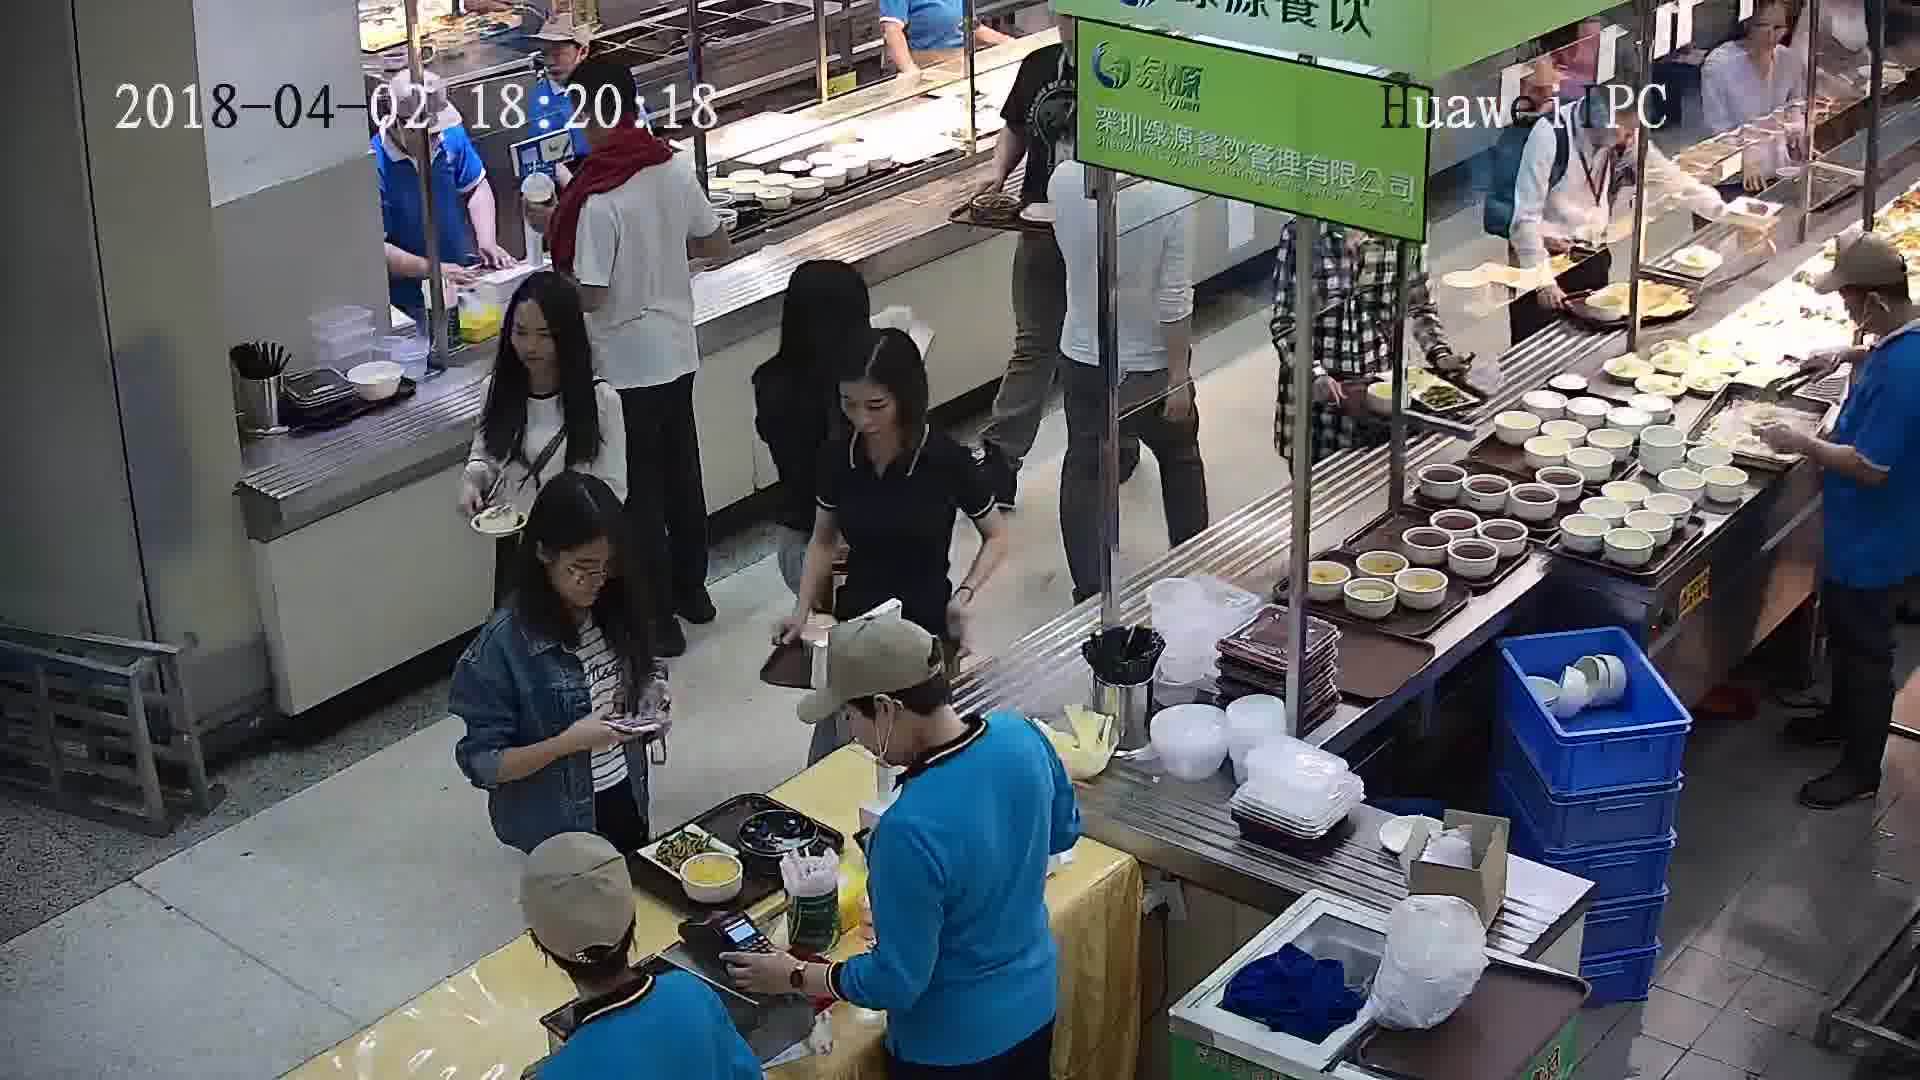face: (545, 534, 620, 610), (497, 298, 572, 373), (836, 378, 904, 446), (1743, 3, 1796, 56)
person: (817, 607, 1054, 852), (511, 836, 753, 1057), (464, 476, 653, 700), (820, 330, 981, 519), (479, 272, 626, 437), (553, 65, 689, 208), (1814, 237, 1919, 406), (763, 255, 875, 396), (1541, 64, 1657, 164), (370, 69, 464, 174), (1710, 0, 1802, 74), (524, 19, 610, 96)
